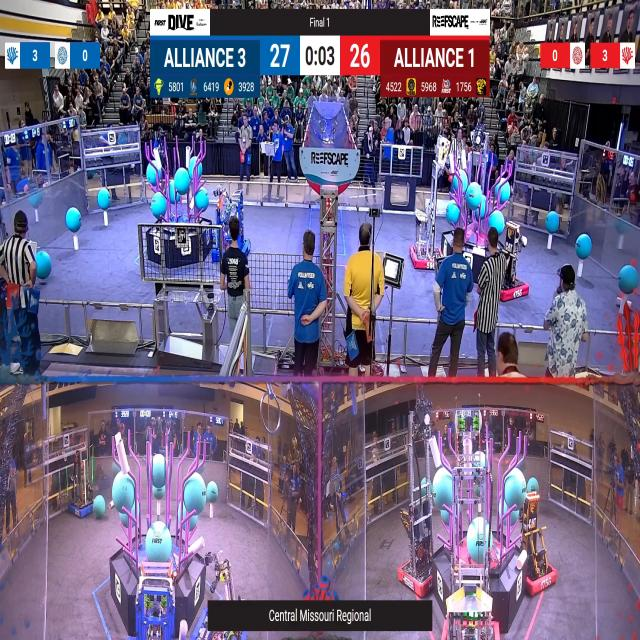scoreboard: (151, 37, 489, 98)
